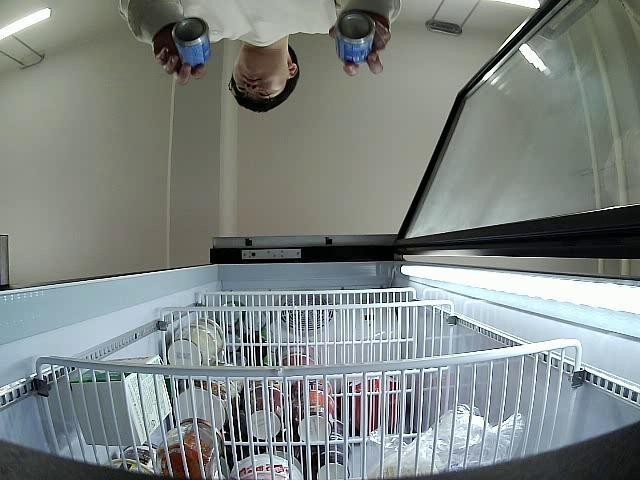15_letsbe: (172, 16, 212, 68), (336, 12, 376, 63)
